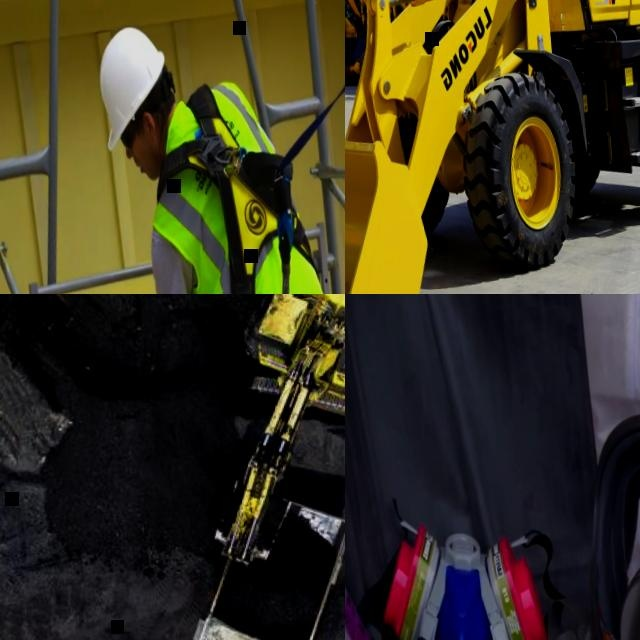Hardhat: (95, 22, 171, 148)
Mask: (372, 511, 547, 640), (578, 399, 640, 640)
NO-Mask: (135, 137, 158, 181)
NO-Safety Vest: (141, 66, 344, 294)
Person: (94, 4, 345, 294)
machinery: (345, 0, 640, 294), (168, 294, 345, 575), (175, 479, 345, 640), (345, 0, 409, 83), (347, 0, 412, 21)
